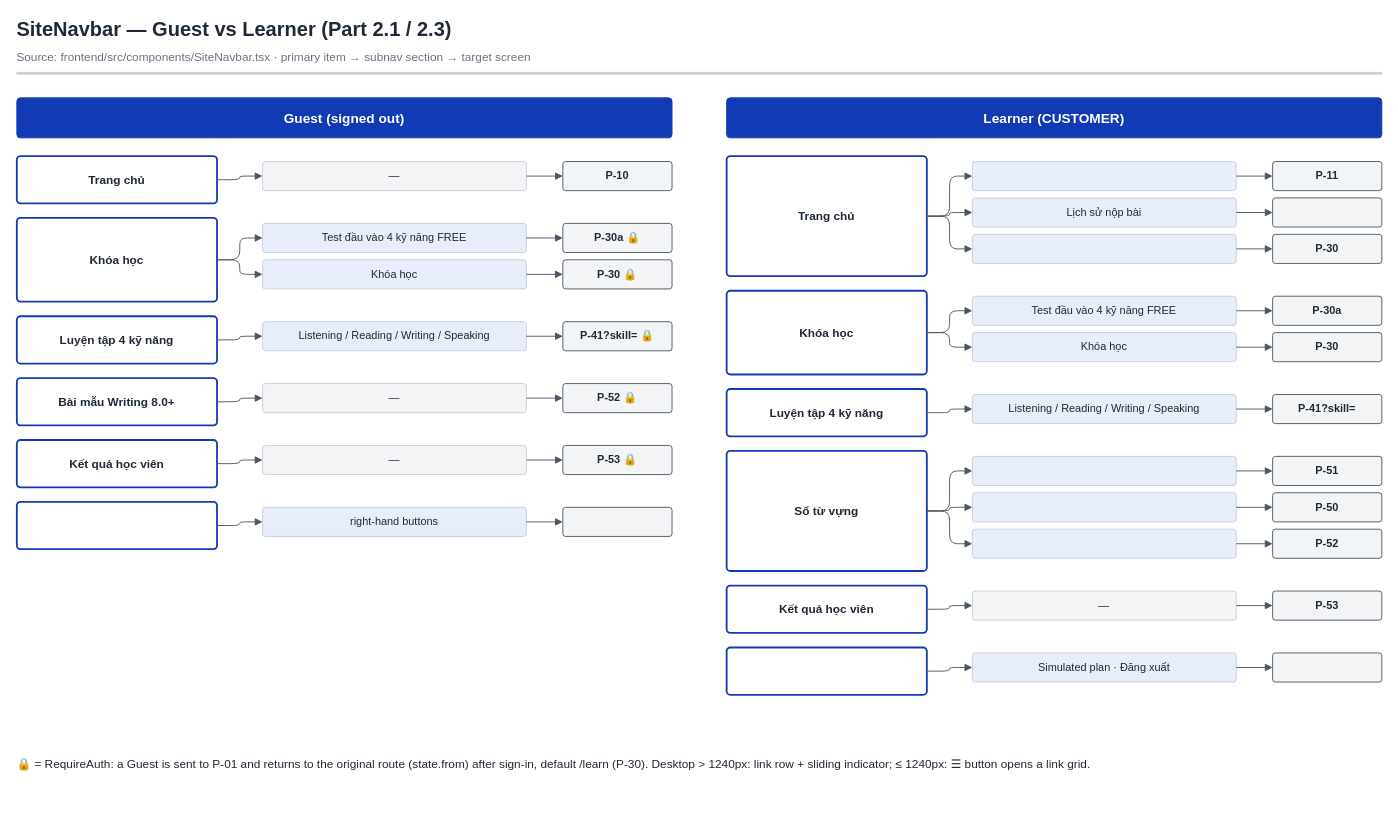
Image size: 1398x823. Some labels were removed from this diagram. Here are the shapes that lost their labels. From the top down, the centre of each, then its label:
At (1103,176): "Dashboard".
At (1327,212): "P-54".
At (1103,248): "Khóa học của tôi".
At (1103,470): "Flashcard của tôi".
At (116,525): "[Đăng nhập] [Đăng ký]".
At (617,521): "P-01 / P-02".
At (1103,507): "Kho từ vựng".
At (1103,543): "Bài mẫu 8đ".
At (826,670): "◯ Học viên · Points ▾".
At (1327,667): "→ P-01".
